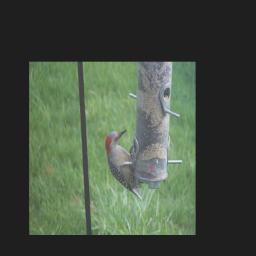Woodpecker: (106, 129, 144, 201)
